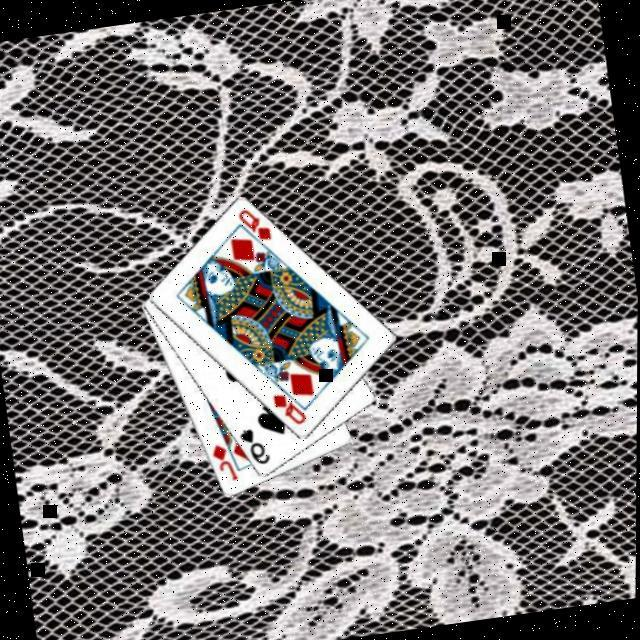6S: (236, 425, 274, 473)
JD: (208, 442, 242, 488)
QD: (233, 204, 274, 250), (269, 390, 310, 433)
